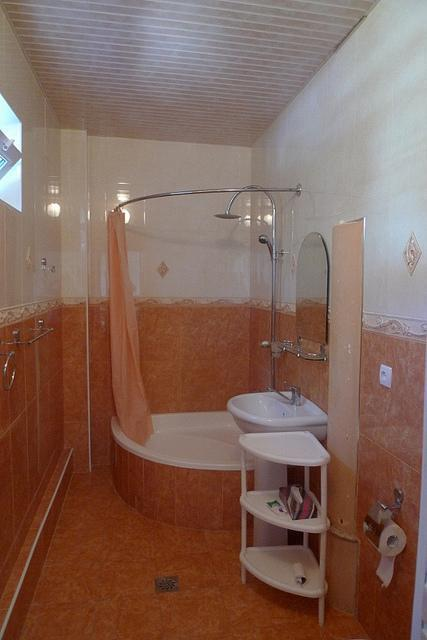Ducha: (211, 175, 297, 468)
Lavamanos: (231, 383, 326, 451)
